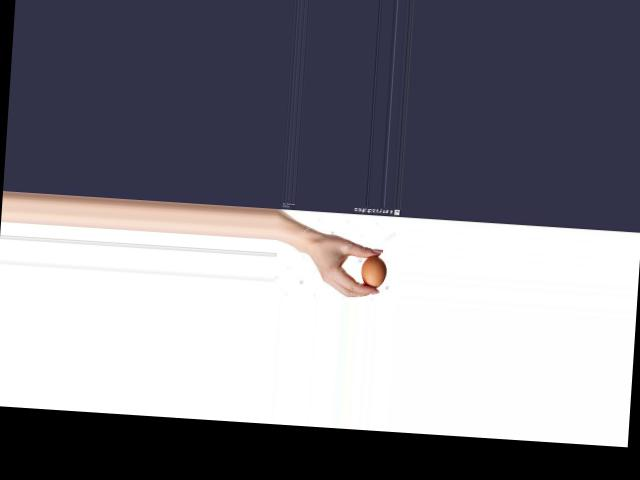egg: (359, 255, 386, 288)
